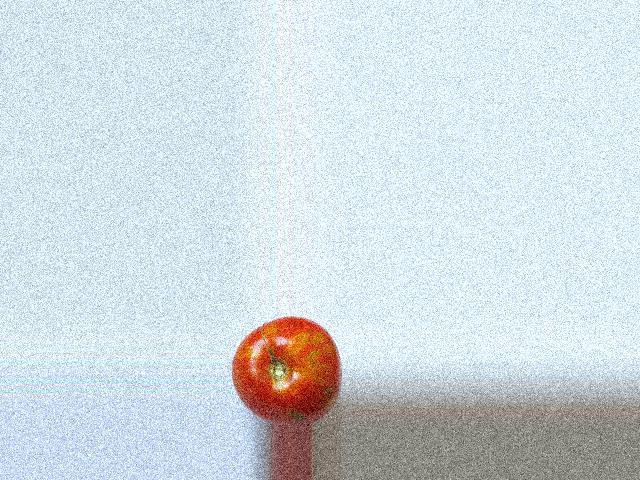tomato: (231, 317, 341, 423)
